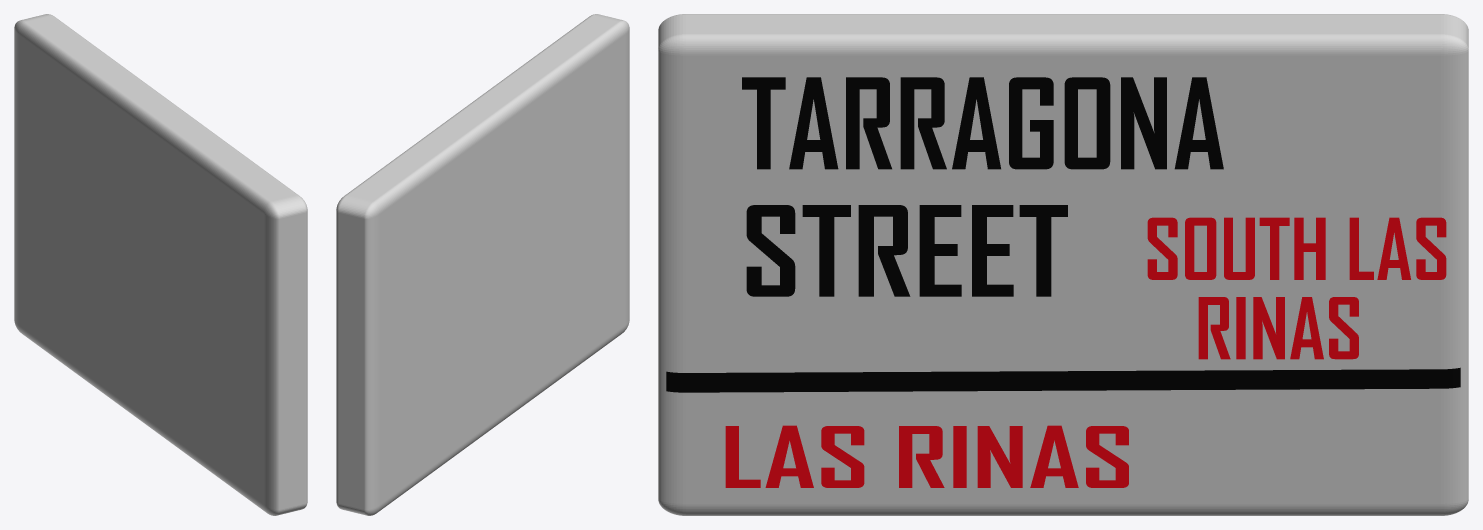
The model's file is las_rinas_street_name_1.fbx.
3 renders of one model, left to right at view 1: azimuth 30°, elevation 25°; view 2: azimuth 150°, elevation 25°; view 3: azimuth 270°, elevation 25°, orthographic. The views are drawn at different scales.
Parts seen in each view (by area): view 1: Cube; view 2: Cube; view 3: Cube, Text, Text.001, Text.002, Text.003, Text.004.
Part boxes in pixels (x1,y1,x2,y2): Cube: [14, 14, 307, 515]; Cube: [336, 14, 629, 515]; Cube: [658, 14, 1468, 515]; Text: [742, 77, 1223, 169]; Text.001: [746, 205, 1067, 296]; Text.002: [725, 425, 1128, 487]; Text.003: [1147, 217, 1446, 279]; Text.004: [1198, 297, 1358, 359].
Size of the model in its own units: 1.63 by 11.91 by 18.18.
